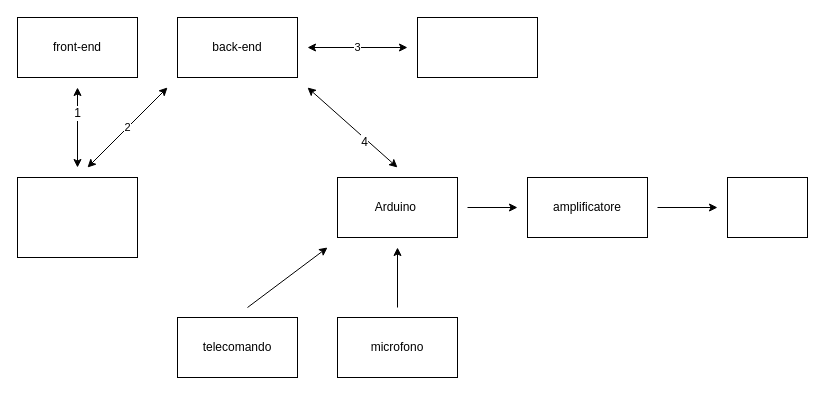
Some shapes in this 825 by 395 pixel diagram are drawn without their labels. Each missing label, with the box of its shape:
altoparlante: (726, 176, 808, 238)
db: (416, 16, 538, 78)
Pagina WEB: (16, 176, 138, 258)
